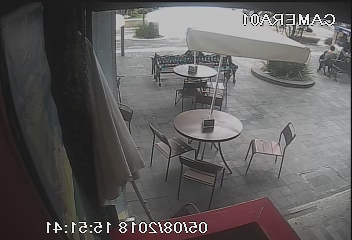libre: (140, 87, 294, 207), (165, 55, 236, 107)
